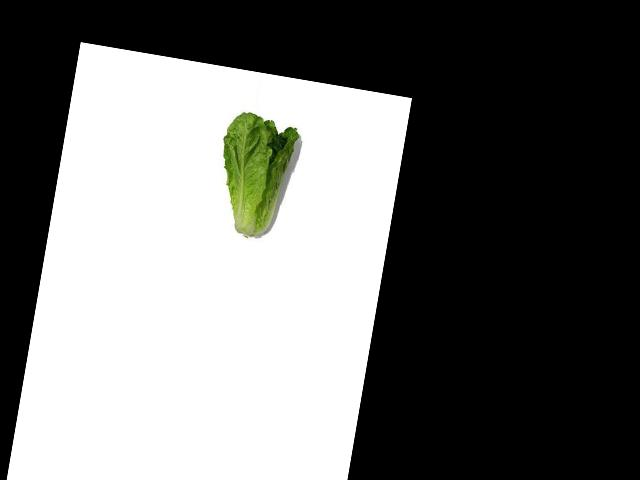lettuce: (208, 115, 300, 243)
